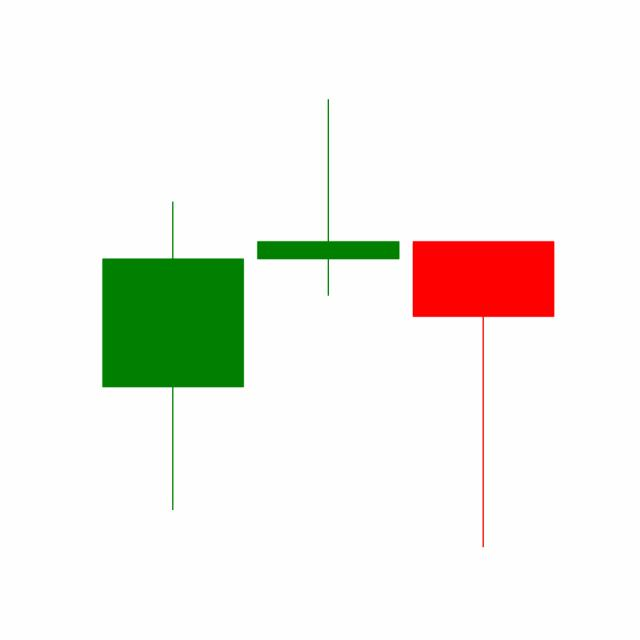Hammer: (405, 238, 561, 550)
